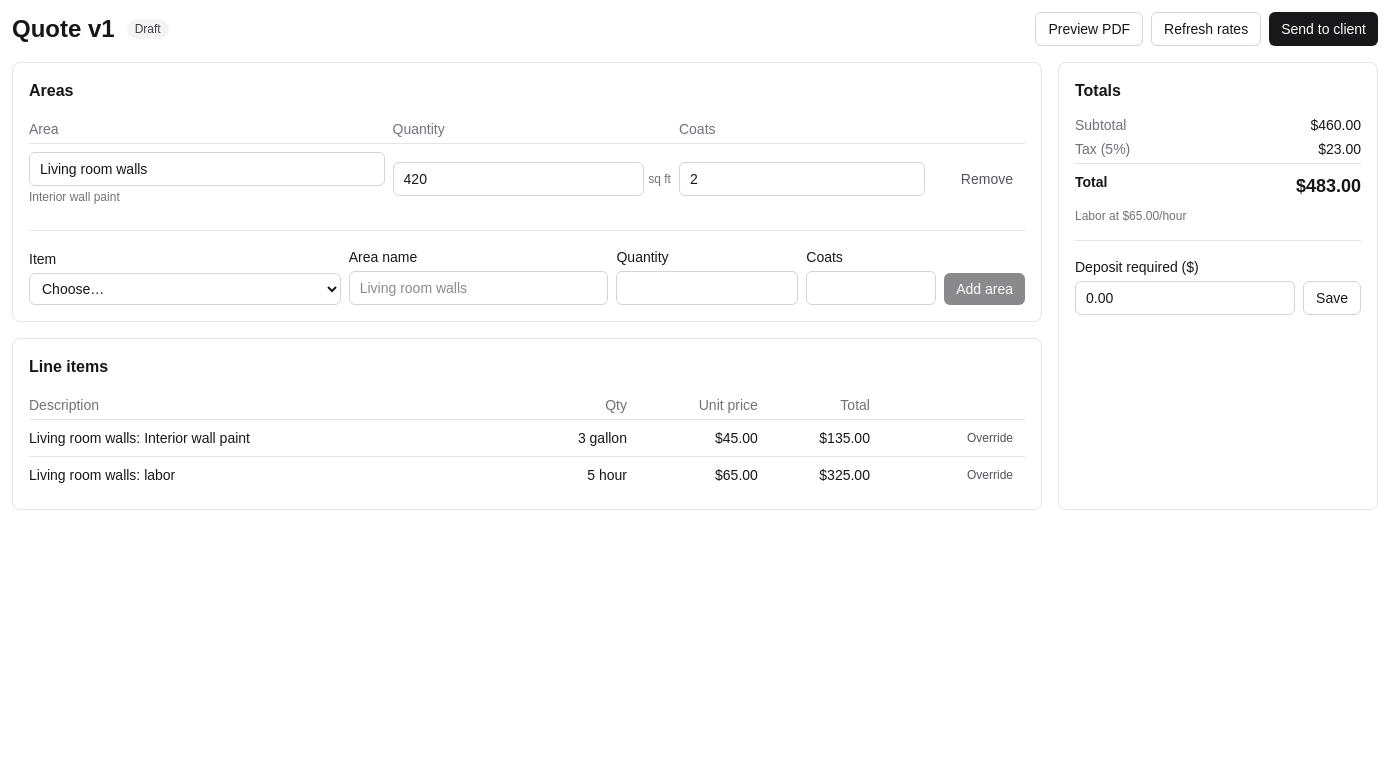
QuoteBuilder › shows the server's error message when an action fails
Replace the text in the field labelled "Deposit required ($)" with "999999": (1185, 298) [1075,281,1295,315]
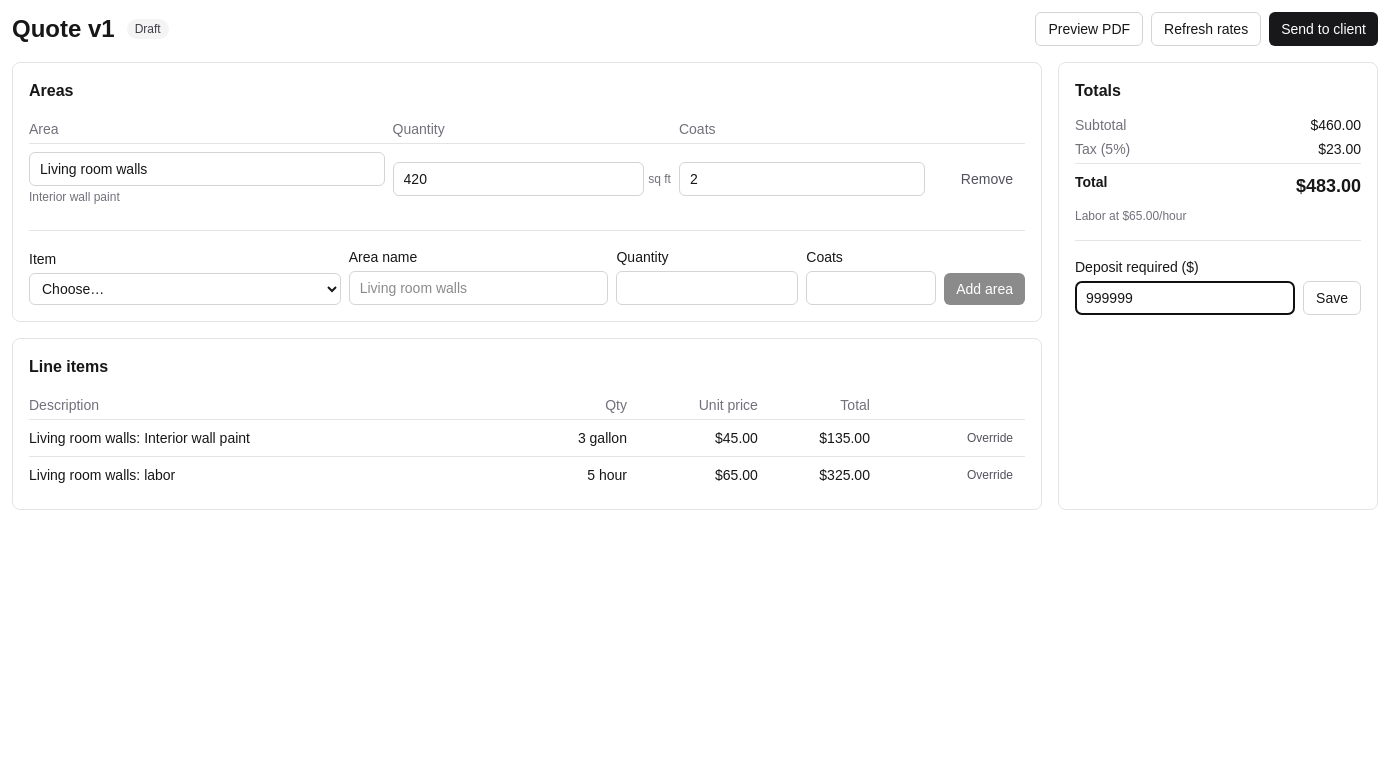
Click the button "Save": (1332, 298) [1303,281,1361,315]
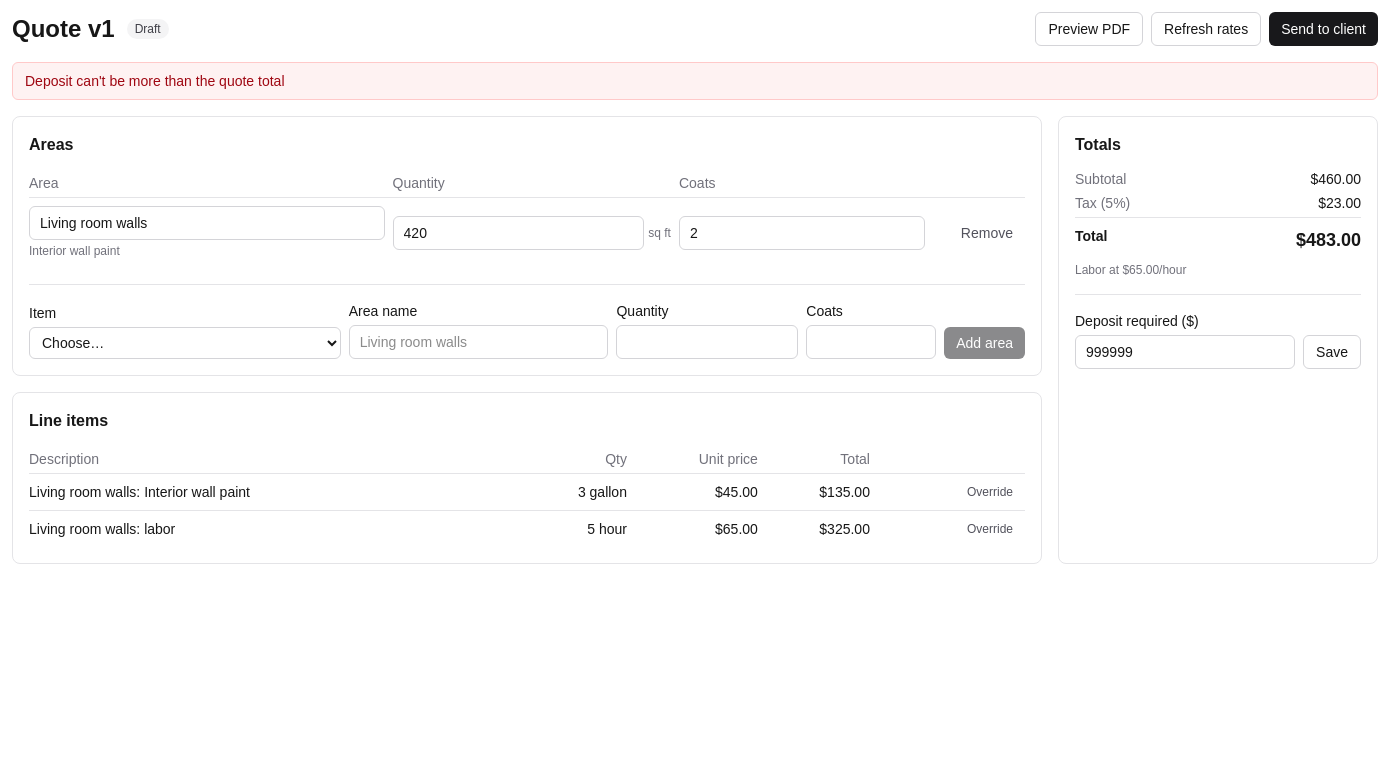
Expected: the text with test id "total" reads "$483.00", [1296,230,1361,250]
Result: the message reads "Deposit can't be more than the quote total" at [25,73,284,89]
